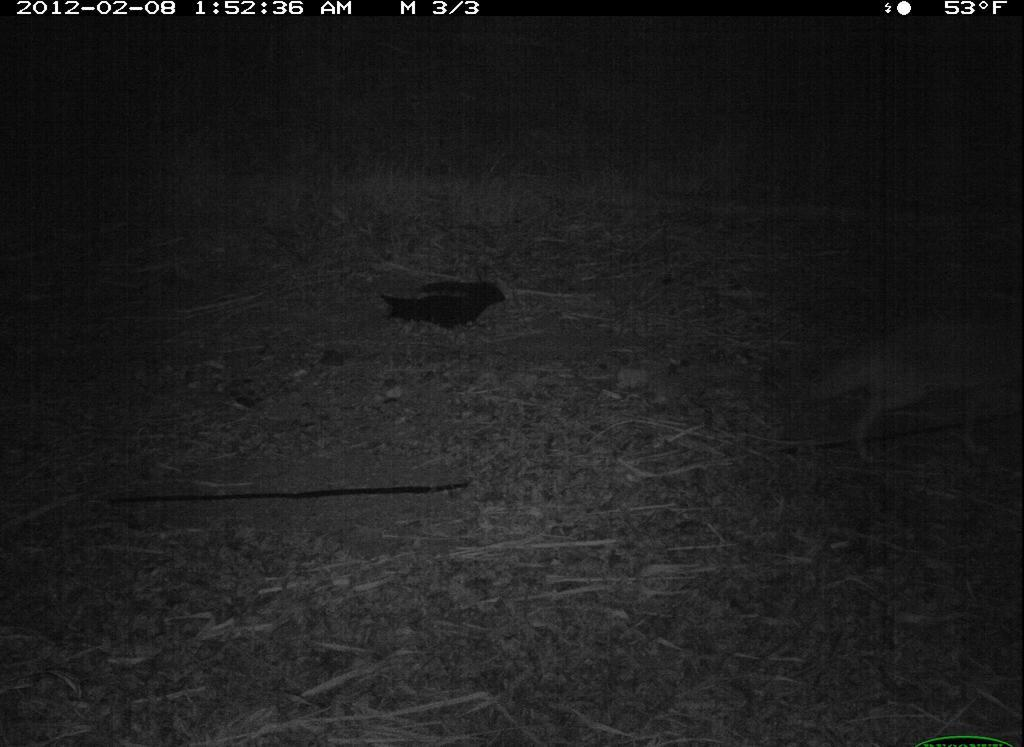coyote: (803, 315, 1021, 464)
